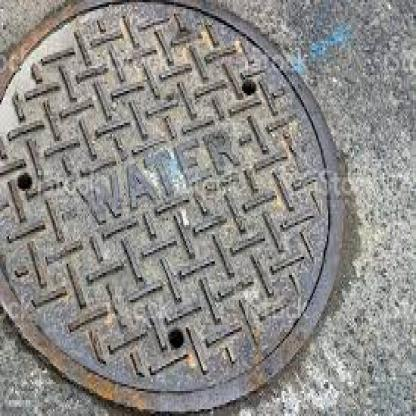closed manhole-not overflowing-: (0, 0, 352, 395)
